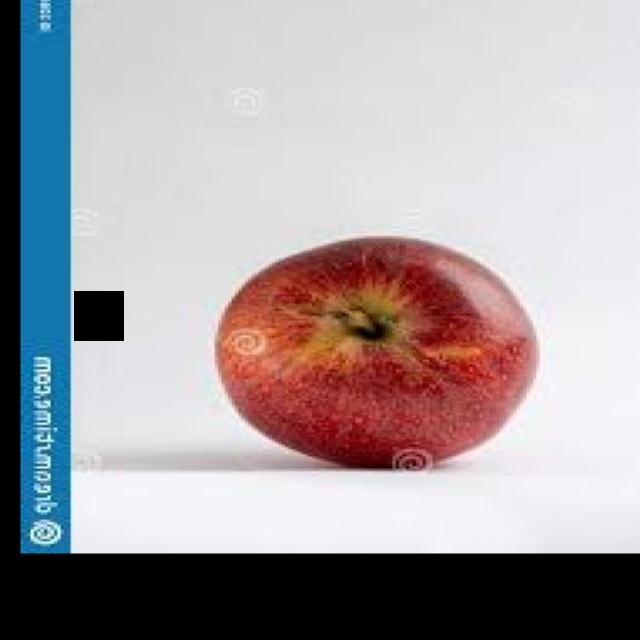red apple: (206, 230, 546, 469)
